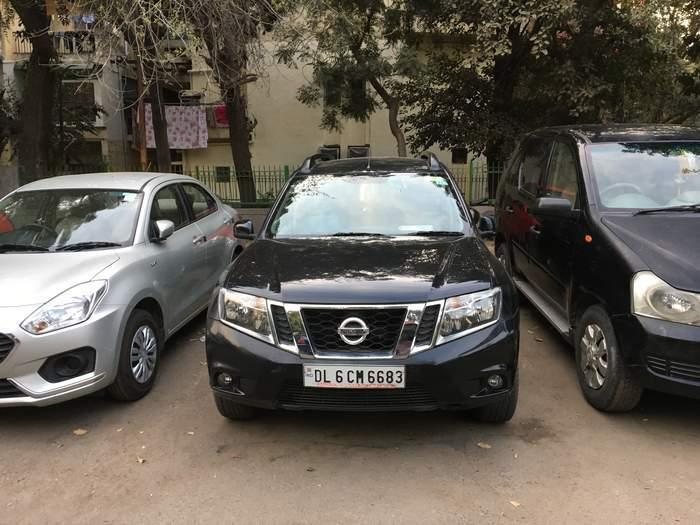licence-plate: (300, 363, 405, 389)
